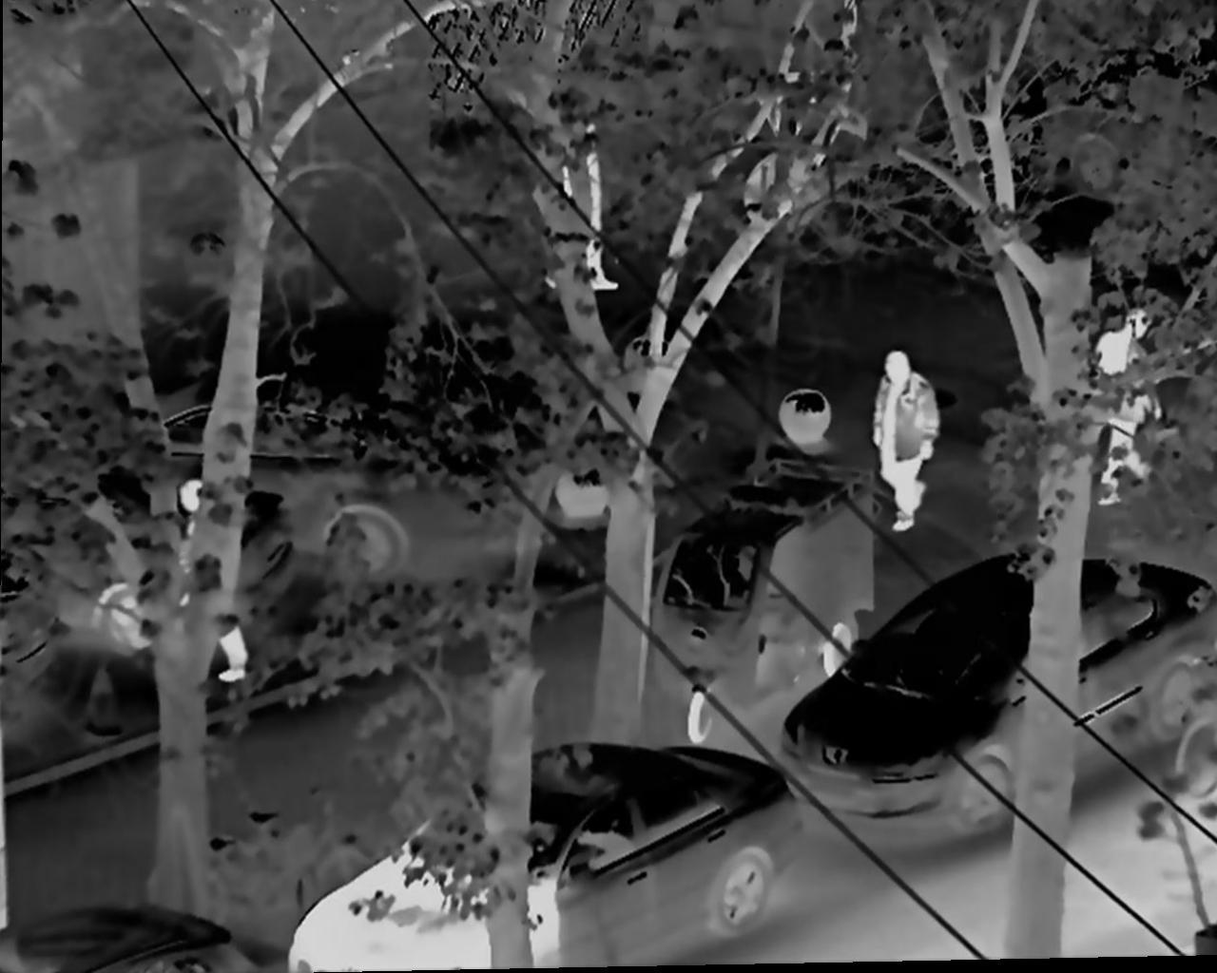person: (172, 483, 261, 694), (1087, 302, 1169, 520), (540, 113, 619, 303), (862, 348, 943, 530)
